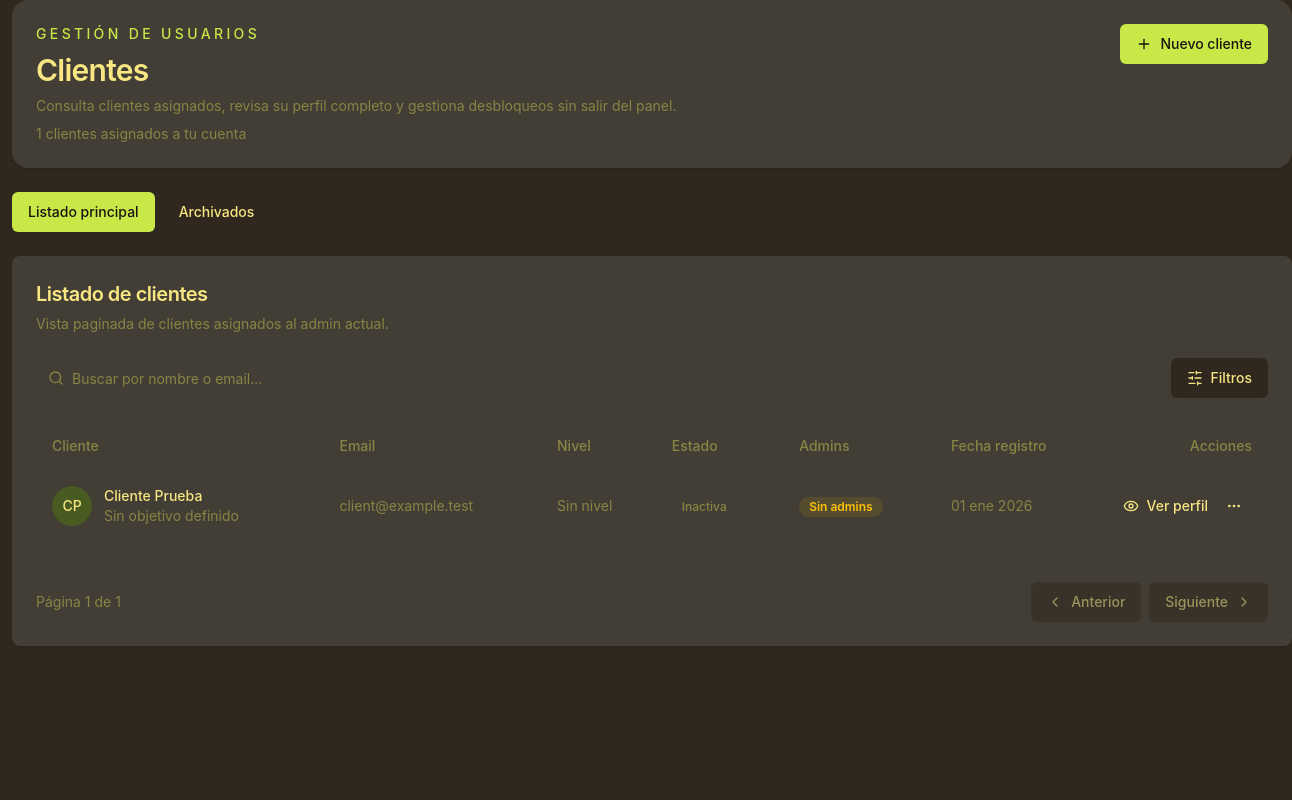
it: Client list archive lifecycle › does not show rows from the main list while archived clients are loading
Expected: the text "Cliente Prueba" is shown, [104,487,202,504]
Click the button "Archivados": (216, 212) [163,192,270,232]
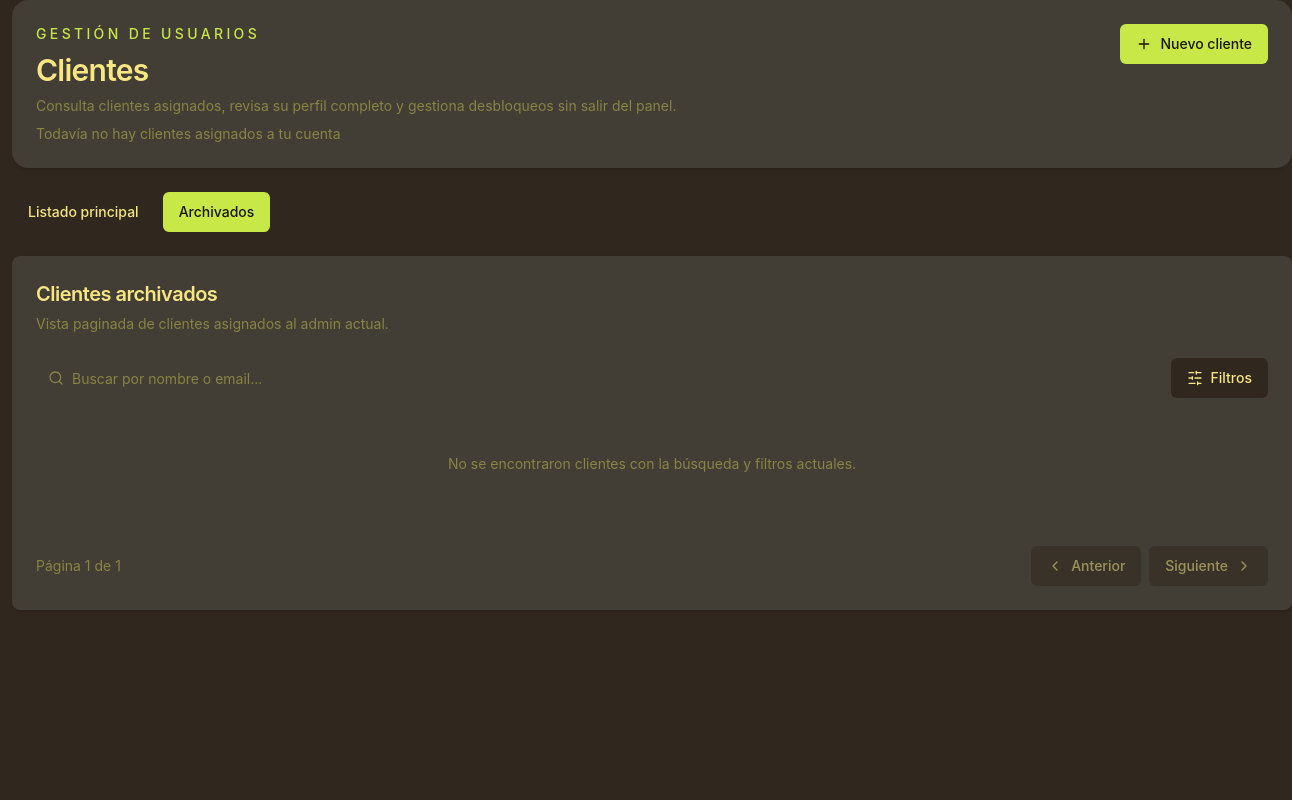
Now the text "Cliente Prueba" is gone
Now the heading "Clientes archivados" is shown, box [36,282,217,306]
